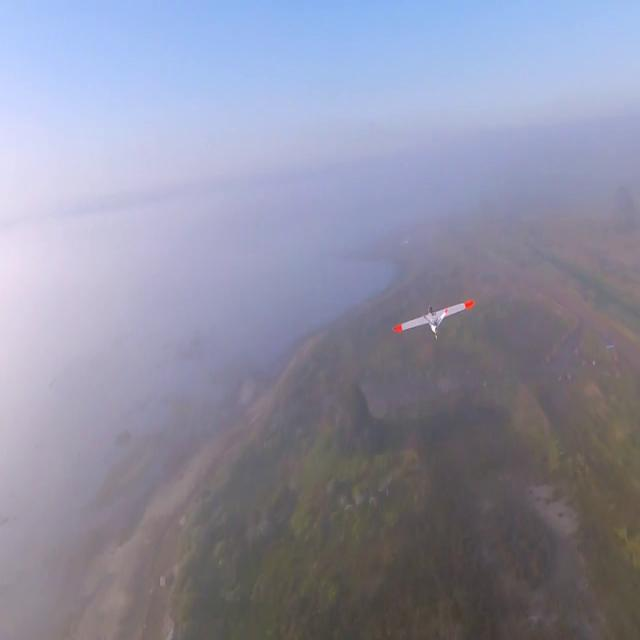iha: (424, 297, 443, 344)
